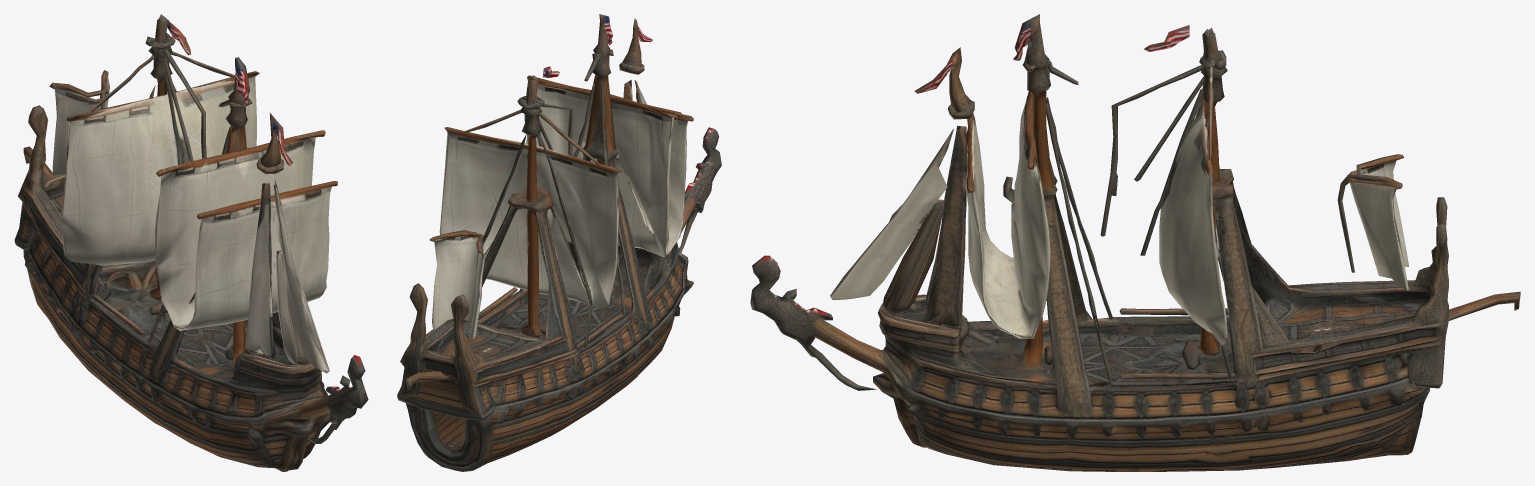
The model's file is cargo-ship.glb.
3 renders of one model, left to right at view 1: azimuth 30°, elevation 25°; view 2: azimuth 150°, elevation 25°; view 3: azimuth 270°, elevation 25°, orthographic. The views are drawn at different scales.
Parts seen in each view (by area): view 1: normalize; view 2: normalize; view 3: normalize.
Boxes of the visible parts, x1,y1,x2,y2 form: normalize: [14, 14, 368, 471]; normalize: [397, 14, 721, 471]; normalize: [750, 14, 1520, 471].
Bounding box in the file's own units: 5.32 × 10.02 × 16.
Materials: 1 (1 with a texture image).
